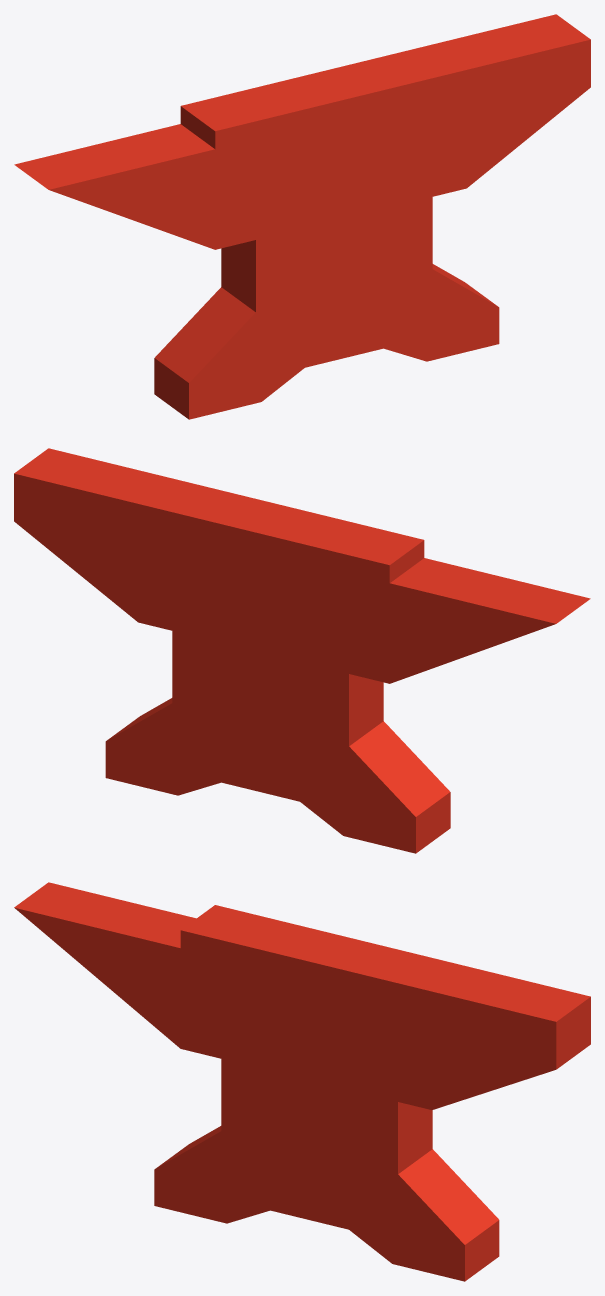
The model's file is Icon_Anvil.fbx.
3 views of the same model, one above another, from view 1: azimuth 30°, elevation 25°; view 2: azimuth 150°, elevation 25°; view 3: azimuth 330°, elevation 25° (orthographic).
Parts seen in each view (by area): view 1: Icon_Anvil; view 2: Icon_Anvil; view 3: Icon_Anvil.
Boxes of the visible parts, bbox=[...] form: Icon_Anvil: bbox=[14, 14, 590, 419]; Icon_Anvil: bbox=[14, 448, 590, 853]; Icon_Anvil: bbox=[14, 882, 590, 1281].
Size of the model in its own units: 109 by 54.27 by 12.06.
